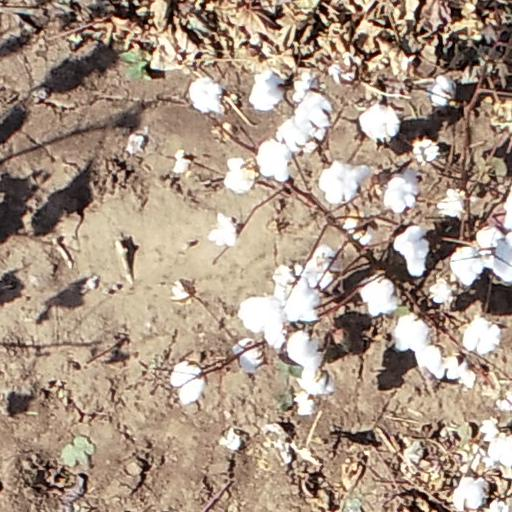Boll: (242, 300, 285, 344), (278, 274, 318, 321), (321, 163, 369, 202), (358, 103, 401, 145), (396, 227, 429, 278), (419, 344, 464, 380), (277, 119, 318, 155), (249, 72, 286, 109), (293, 96, 332, 131), (257, 140, 291, 180), (306, 247, 338, 289), (185, 77, 223, 112), (361, 278, 395, 315), (383, 175, 417, 212), (464, 318, 500, 351), (172, 363, 202, 402), (288, 331, 320, 367), (393, 317, 431, 347), (223, 157, 254, 193), (299, 363, 334, 393), (450, 248, 480, 283), (455, 478, 486, 510), (209, 214, 239, 246), (478, 229, 500, 266), (494, 237, 512, 279), (429, 77, 455, 105), (438, 190, 463, 218), (236, 343, 261, 369), (489, 435, 512, 459), (299, 390, 320, 415), (415, 142, 436, 163)
